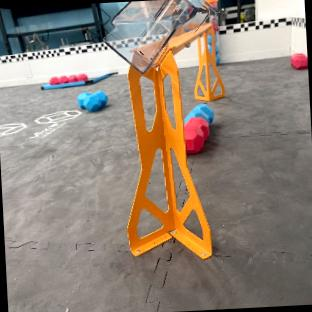Goal: (104, 0, 216, 257), (195, 42, 223, 101)
Parking - B: (41, 72, 109, 88)
V5_BLUE: (77, 92, 107, 110), (185, 103, 213, 122)
V5_RED: (184, 116, 208, 152), (49, 73, 87, 85), (291, 52, 307, 68)
